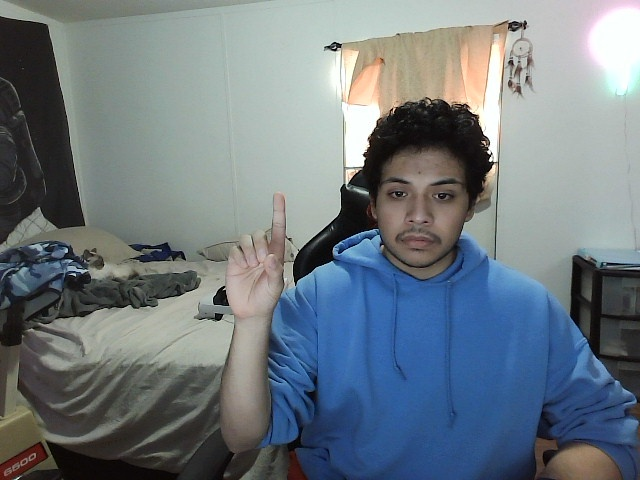D: (223, 187, 293, 317)
